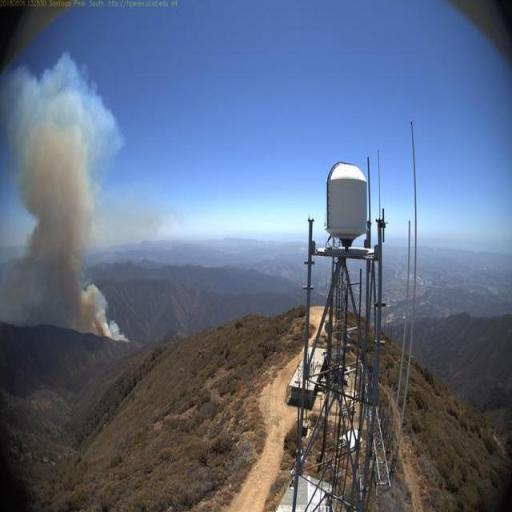smoke: (0, 50, 134, 347)
